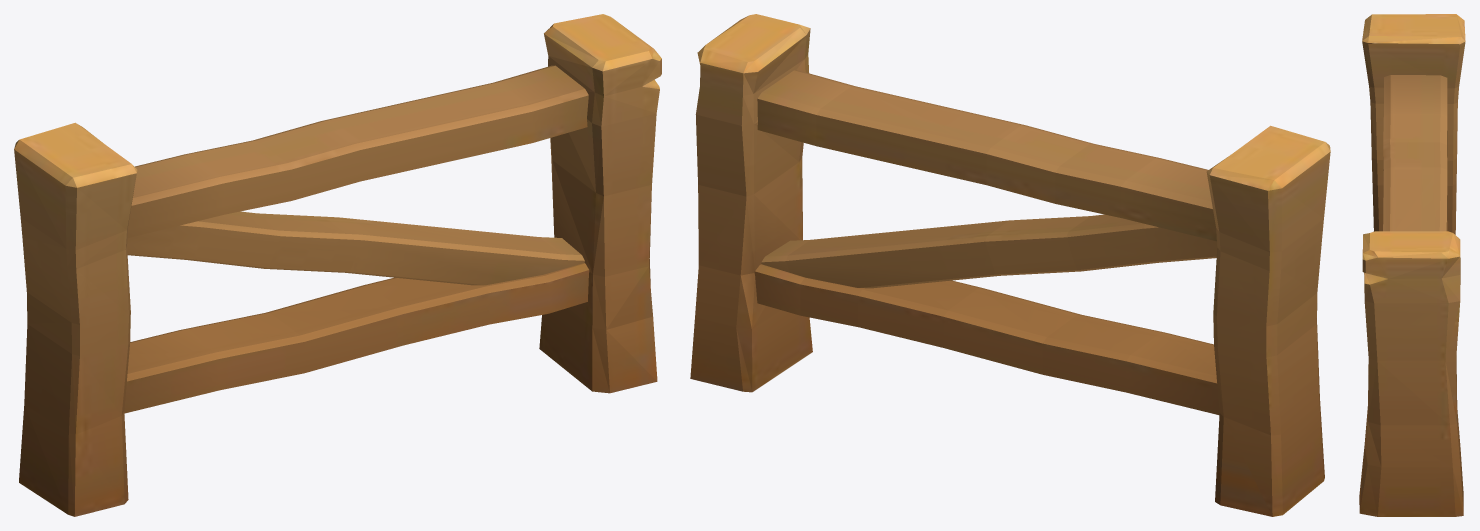
The model's file is fence_rail_low.glb.
3 renders of one model, left to right at view 1: azimuth 30°, elevation 25°; view 2: azimuth 150°, elevation 25°; view 3: azimuth 270°, elevation 25°, orthographic. The views are drawn at different scales.
Parts seen in each view (by area): view 1: fence_rail_low; view 2: fence_rail_low; view 3: fence_rail_low.
Boxes of the visible parts, x1=… form: fence_rail_low: x1=14, y1=14, x2=661, y2=516; fence_rail_low: x1=690, y1=14, x2=1330, y2=516; fence_rail_low: x1=1359, y1=14, x2=1465, y2=516.
Bounding box in the file's own units: 1.35 × 0.74 × 0.26.
1 material, 1 textured.
